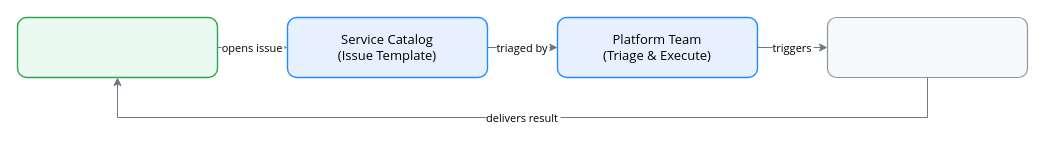
The diagram is 1046 pixels wide and 144 high, and some of its shapes have lost their labels. Here are the shapes that lost their labels. From the top down, the centre of each, then its label:
[117,47]: Requester (Org Owner / Team Lead)
[927,47]: Provisioning Automation
